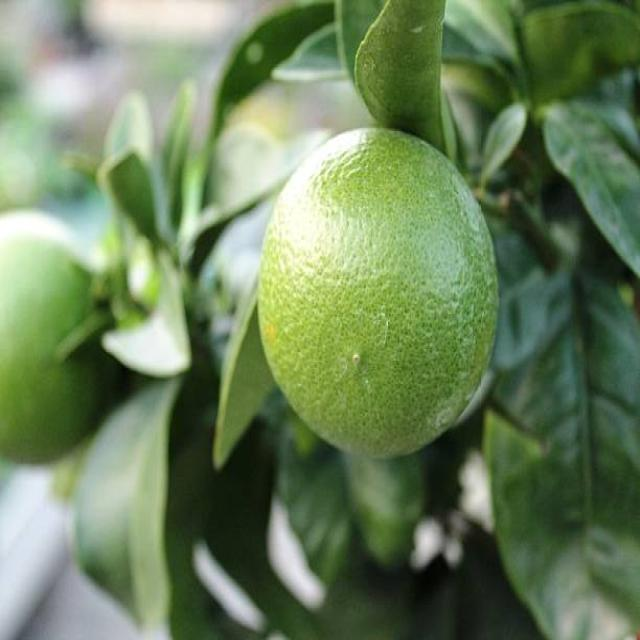Unripe: (258, 128, 497, 460)
